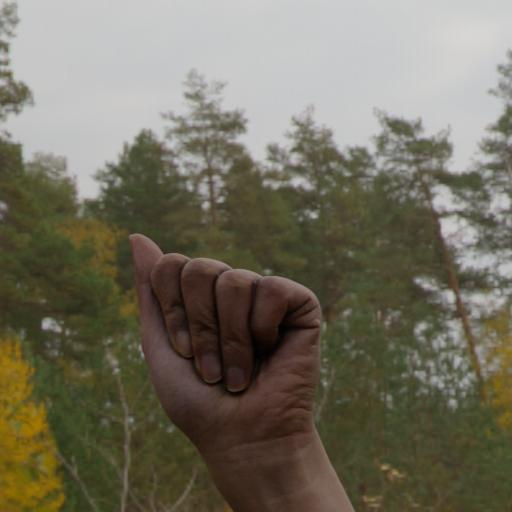A: (114, 217, 357, 512)
